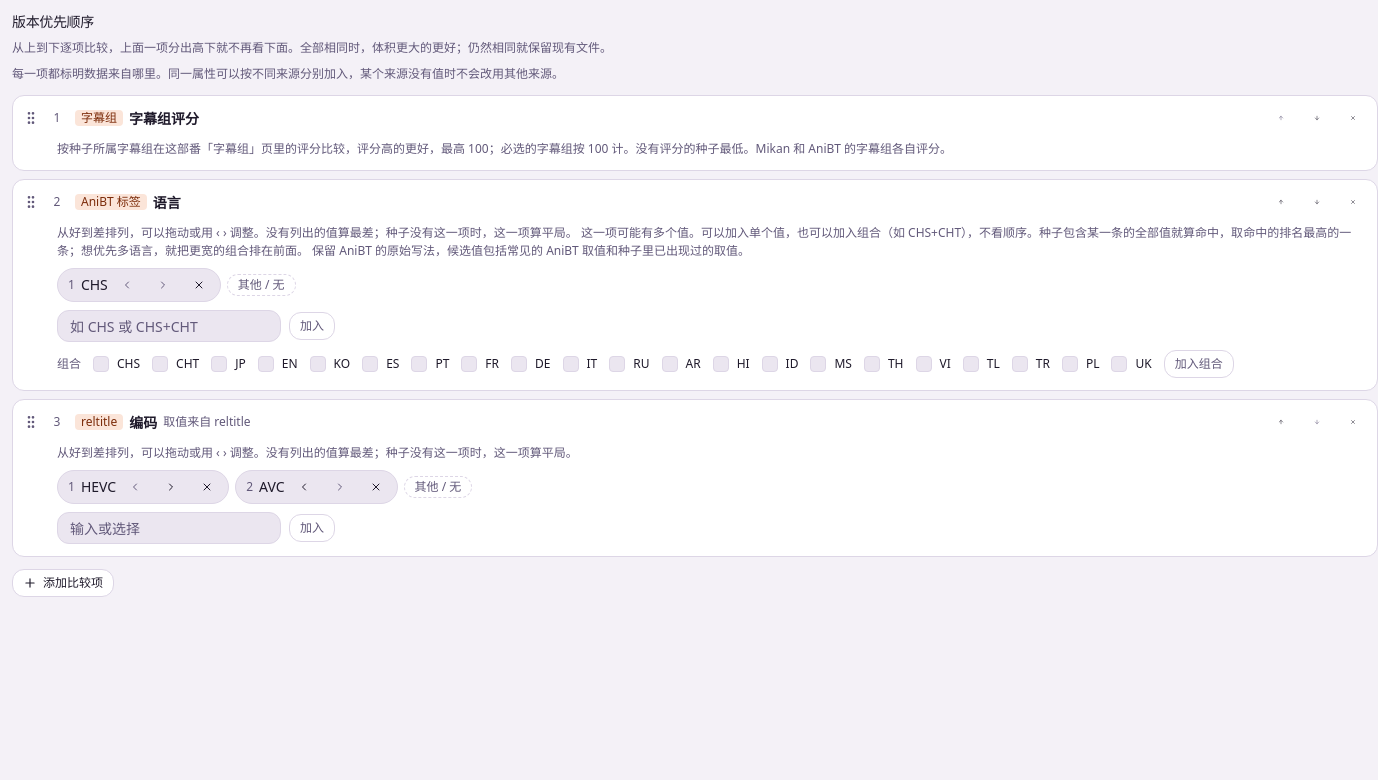
Test: QualityCompareEditor › refuses combinations on single-valued items
This screenshot has width=1378, height=780.
Check: the number of elements "组合" is 1, box [57,350,1365,378]
In the field with placeholder "输入或选择": (169, 528) [57,512,281,544], type "AV1+HEVC"
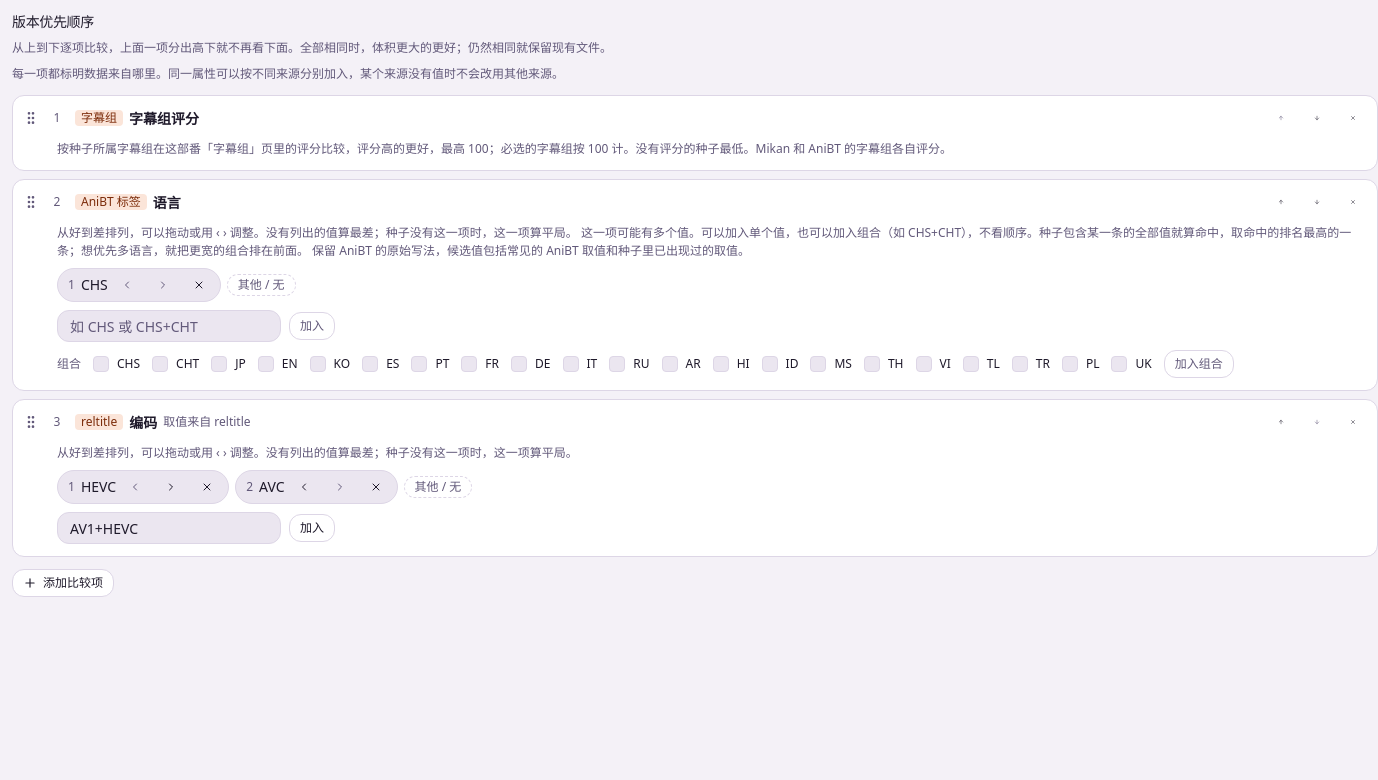
Click the button "加入" below "HEVC": click(312, 528) [289,514,335,542]
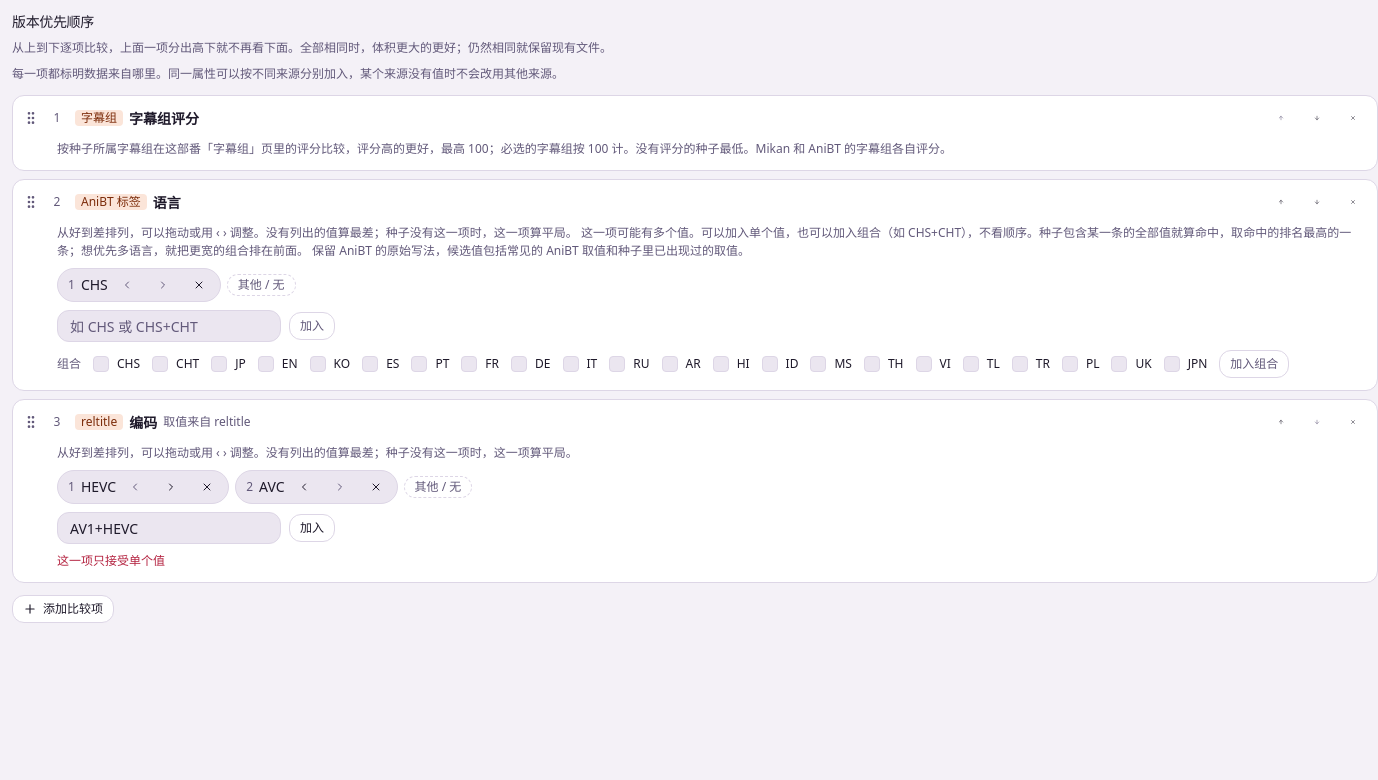
Check: the message reads "这一项只接受单个值", box [57,552,165,569]
